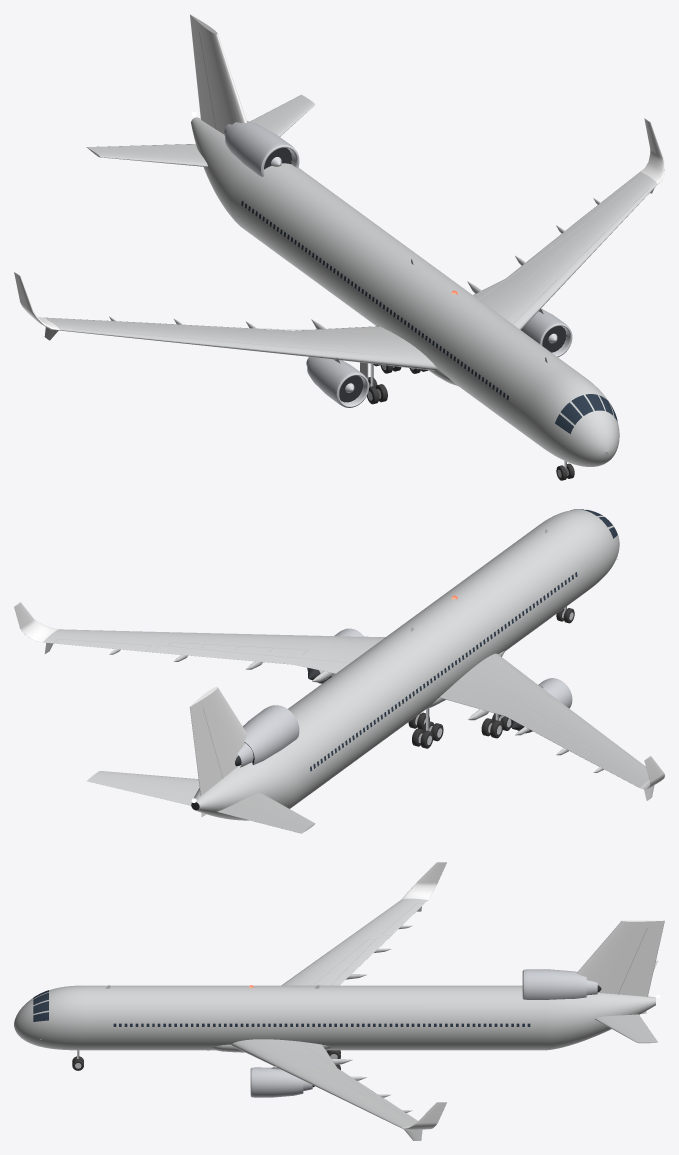
3 renders of one model, top to bottom at view 1: azimuth 30°, elevation 25°; view 2: azimuth 150°, elevation 25°; view 3: azimuth 270°, elevation 25°, orthographic. The views are drawn at different scales.
Visible parts, largest first — view 1: airframe, gear; view 2: airframe, gear; view 3: airframe.
Boxes of the visible parts, <box> form: airframe: <box>14,14,664,466</box>; gear: <box>360,362,574,480</box>; airframe: <box>14,509,664,833</box>; gear: <box>408,606,574,748</box>; airframe: <box>14,862,664,1140</box>.
Size of the model in its own units: 54.66 by 15.68 by 62.47.
